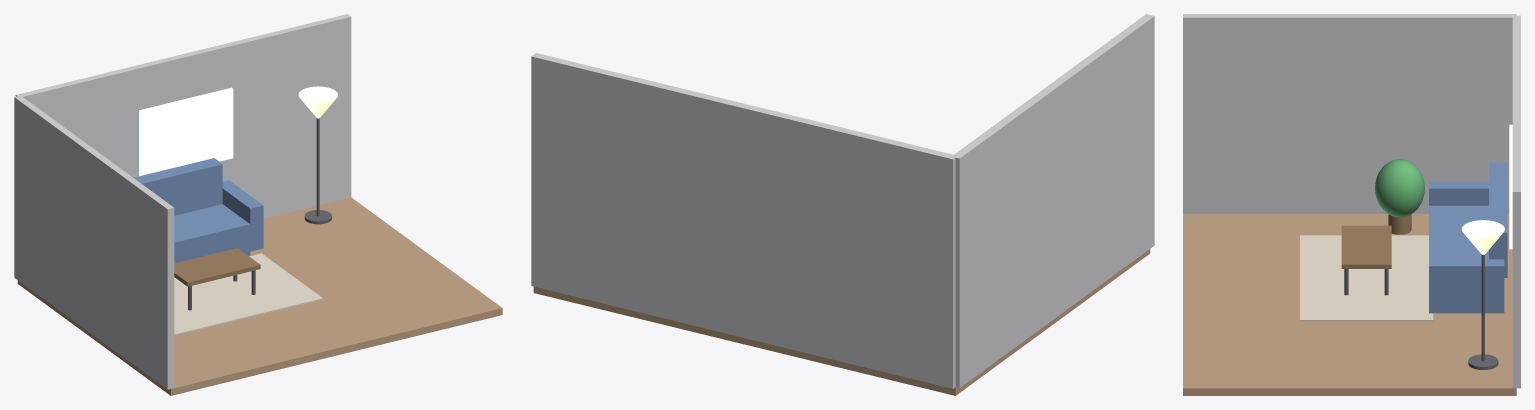
Rendered from loft-living-room.glb.
3 views of the same model, side by side, from view 1: azimuth 30°, elevation 25°; view 2: azimuth 150°, elevation 25°; view 3: azimuth 270°, elevation 25° (orthographic). The views are drawn at different scales.
Bounding box in the file's own units: 5.05 × 2.7 × 4.05.
